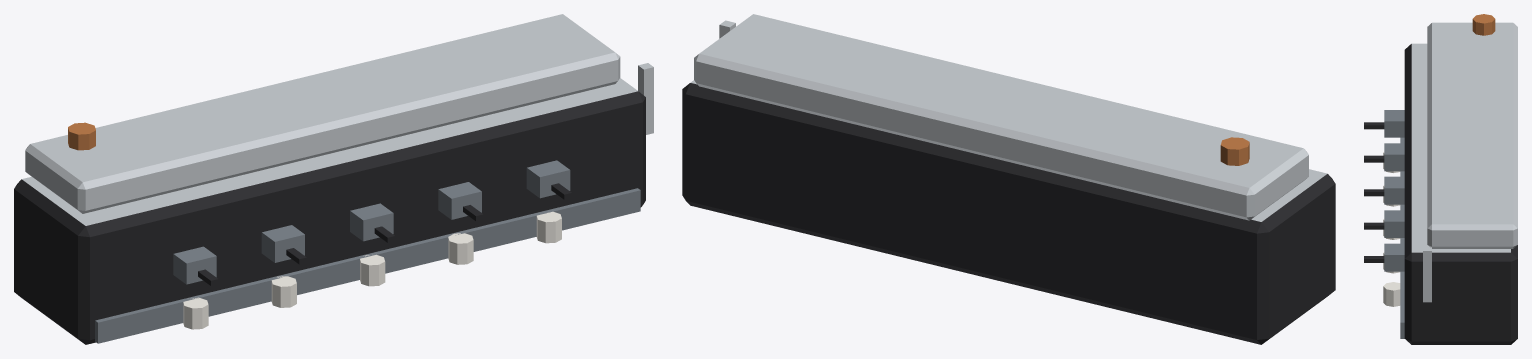
Rendered from espresso_5.fbx.
3 renders of one model, left to right at view 1: azimuth 30°, elevation 25°; view 2: azimuth 150°, elevation 25°; view 3: azimuth 270°, elevation 25°, orthographic. The views are drawn at different scales.
Parts seen in each view (by area): view 1: espresso_5; view 2: espresso_5; view 3: espresso_5.
Boxes of the visible parts, x1=… form: espresso_5: x1=14, y1=14, x2=653, y2=344; espresso_5: x1=682, y1=14, x2=1335, y2=344; espresso_5: x1=1364, y1=14, x2=1517, y2=344.
Bounding box in the file's own units: 2.31 × 0.65 × 0.68.
